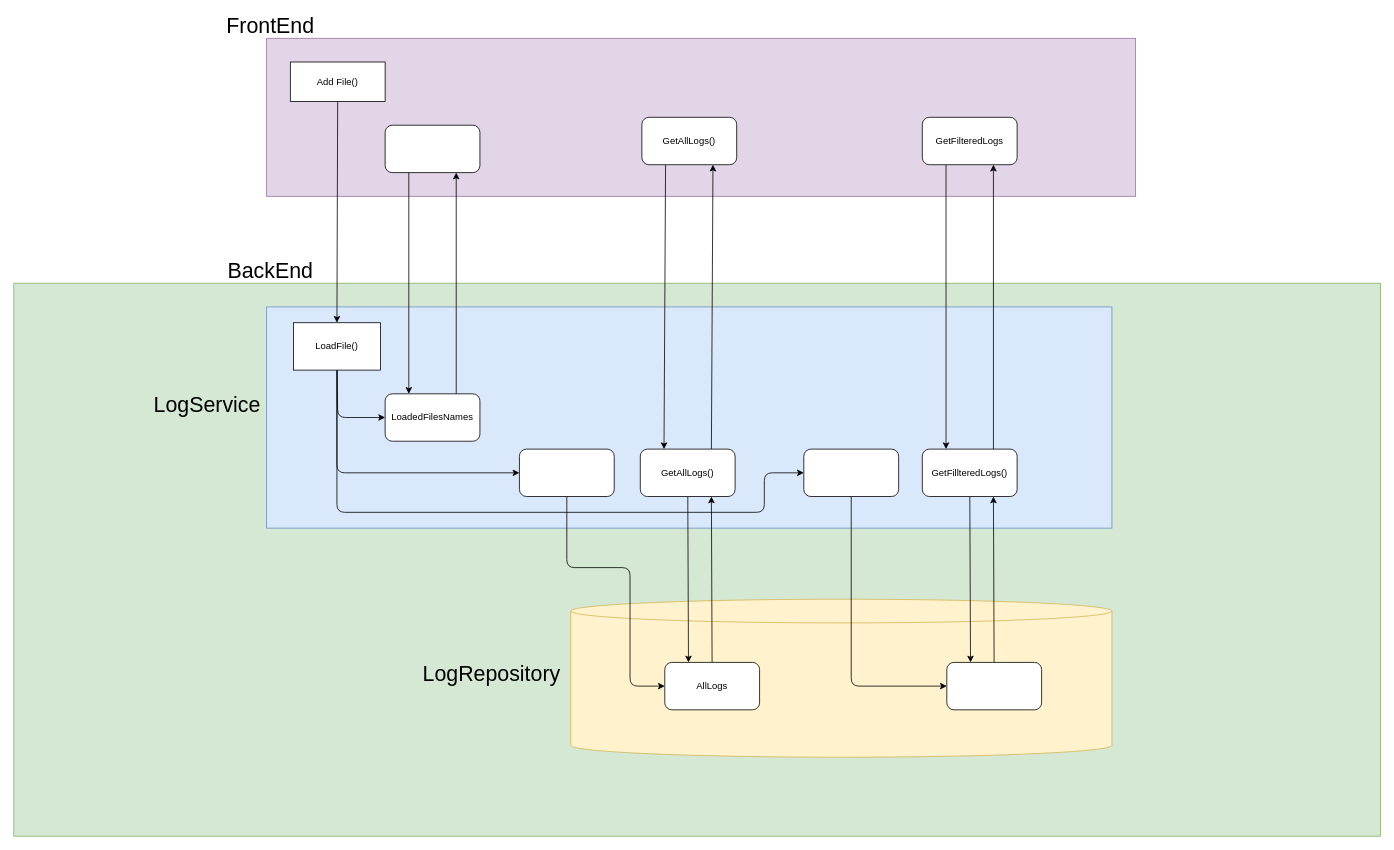
The diagram is 1394 pixels wide and 850 high, and some of its shapes have lost their labels. The centre of each missing label's shape, as x and y in pixels:
FilteredLogs: [994,686]
GetAllFilesNames(): [432,148]
UpdateAllLogs(): [566,472]
UpdateFilteredLogs(): [851,472]
